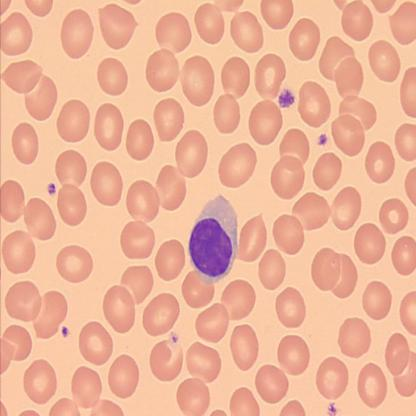Atypical lymphocyte: (187, 195, 236, 280)
